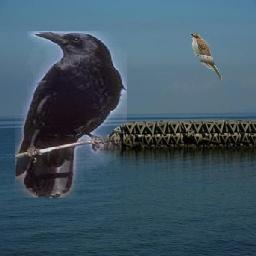Crow: (15, 32, 127, 199)
Cuckoo: (190, 34, 222, 81)
